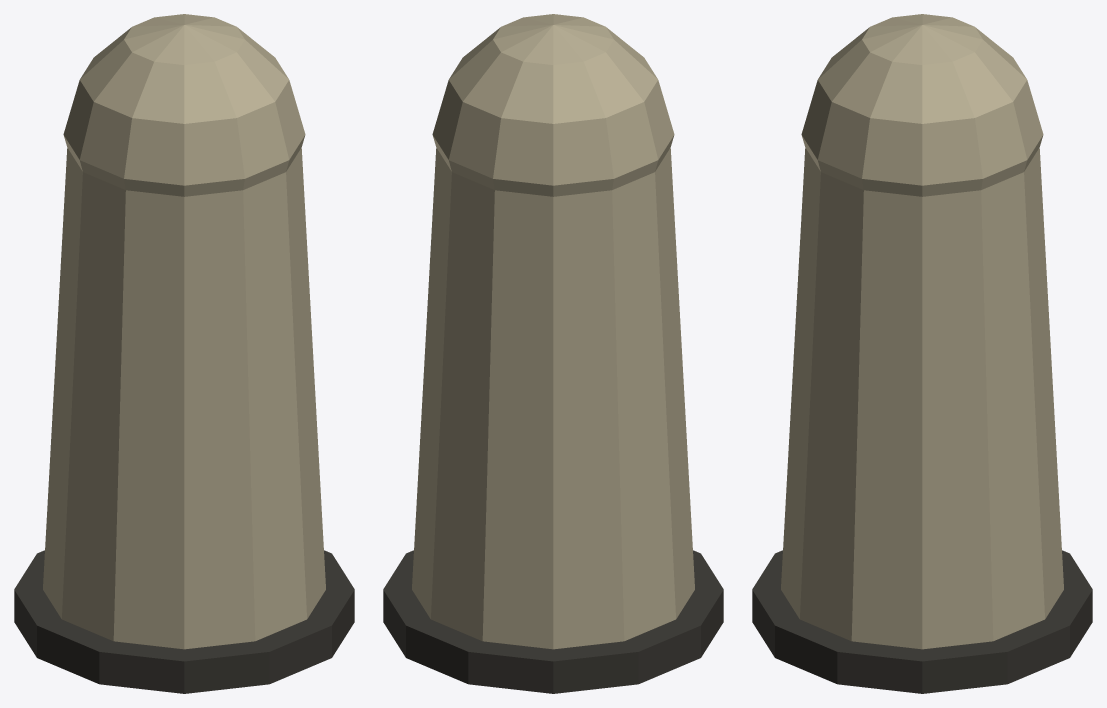
File: stupic-kamen.glb
3 renders of one model, left to right at view 1: azimuth 30°, elevation 25°; view 2: azimuth 150°, elevation 25°; view 3: azimuth 270°, elevation 25°, orthographic.
Visible parts, largest first — view 1: stupic-kamen; view 2: stupic-kamen; view 3: stupic-kamen.
Boxes of the visible parts, x1,y1,x2,y2 form: stupic-kamen: (14,14,354,693); stupic-kamen: (383,14,723,693); stupic-kamen: (752,14,1092,693).
Bounding box in the file's own units: 0.38 × 0.735 × 0.38.
1 material, 1 textured.
